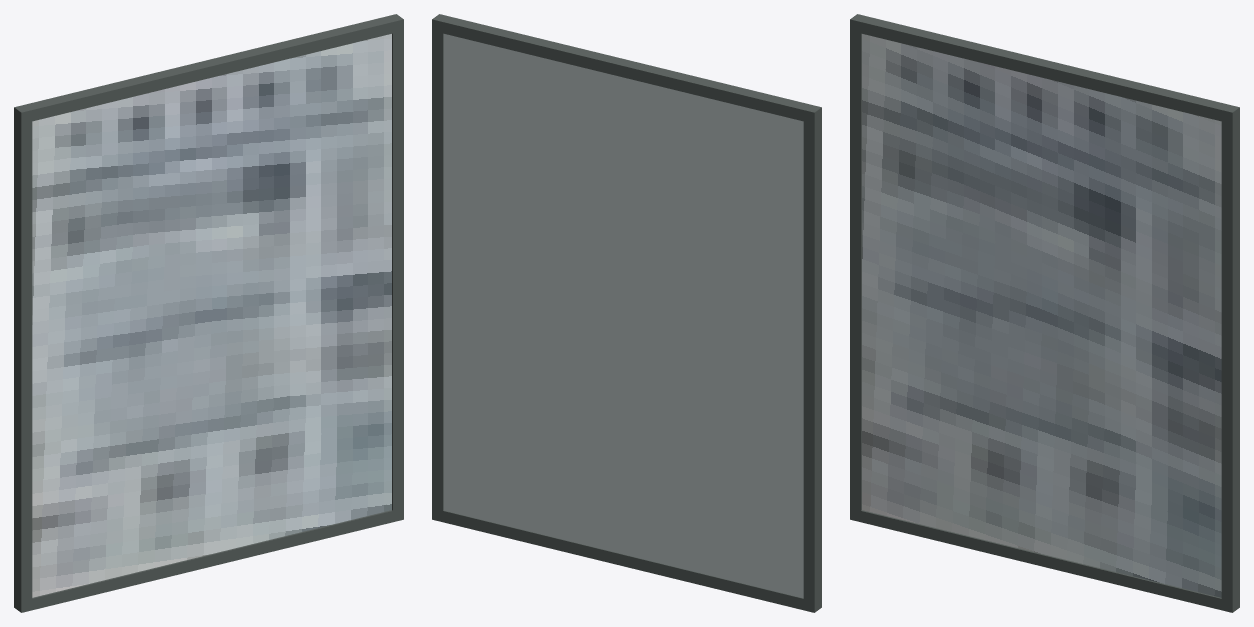
File: D03_taiseido_corner_notice_20250131_photo_face.glb
3 views of the same model, side by side, from view 1: azimuth 30°, elevation 25°; view 2: azimuth 150°, elevation 25°; view 3: azimuth 330°, elevation 25° (orthographic).
Visible parts, largest first — view 1: D03_notice_unlettered_insert, D03_notice_continuous_outer_frame; view 2: D03_notice_unlettered_insert, D03_notice_continuous_outer_frame; view 3: D03_notice_unlettered_insert, D03_notice_continuous_outer_frame.
Part boxes in pixels (left/top/right/bottom): D03_notice_unlettered_insert: left=32, top=34, right=391, bottom=597; D03_notice_continuous_outer_frame: left=14, top=14, right=403, bottom=612; D03_notice_unlettered_insert: left=443, top=34, right=803, bottom=598; D03_notice_continuous_outer_frame: left=432, top=14, right=821, bottom=612; D03_notice_unlettered_insert: left=862, top=34, right=1221, bottom=597; D03_notice_continuous_outer_frame: left=850, top=14, right=1239, bottom=612.
Size of the model in its own units: 0.84 by 1.05 by 0.028.
3 materials, 1 textured.
